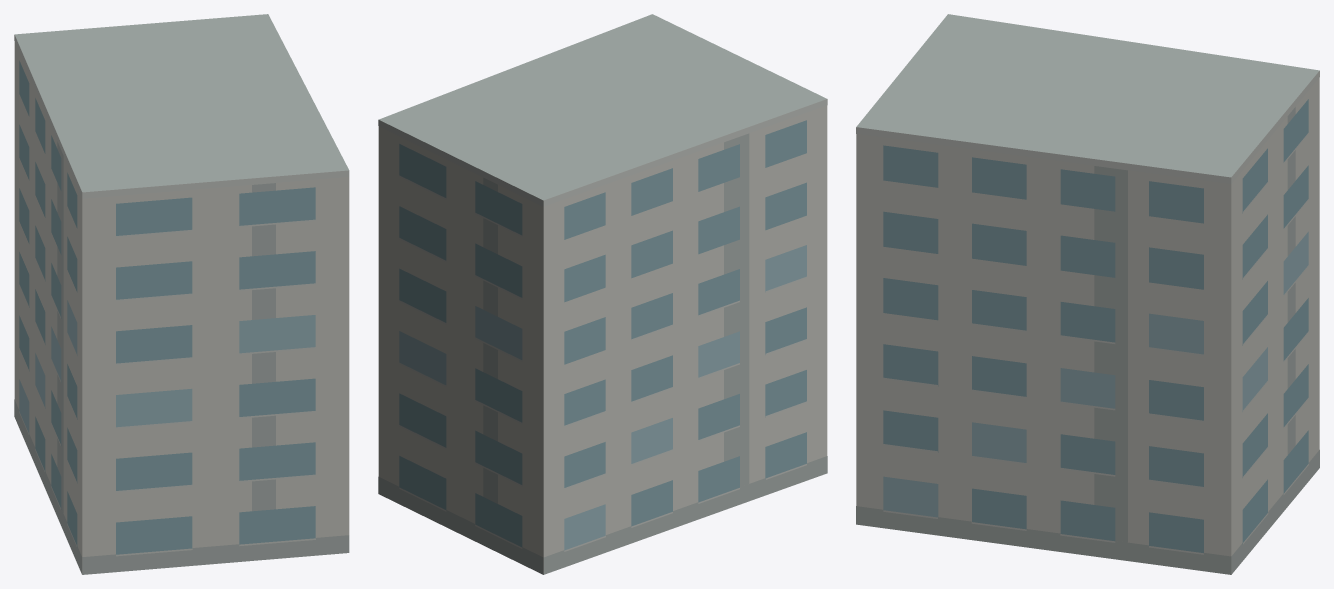
Rendered from survey-upis-32947238.glb.
3 views of the same model, side by side, from view 1: azimuth 30°, elevation 25°; view 2: azimuth 150°, elevation 25°; view 3: azimuth 270°, elevation 25° (orthographic). The views are drawn at different scales.
Visible parts, largest first — view 1: survey-upis-32947238.tmp; view 2: survey-upis-32947238.tmp; view 3: survey-upis-32947238.tmp.
Part boxes in pixels (<box>): survey-upis-32947238.tmp: <box>14,14,349,574</box>; survey-upis-32947238.tmp: <box>378,14,827,574</box>; survey-upis-32947238.tmp: <box>856,14,1319,574</box>.
Size of the model in its own units: 12.53 by 14.2 by 15.02.
